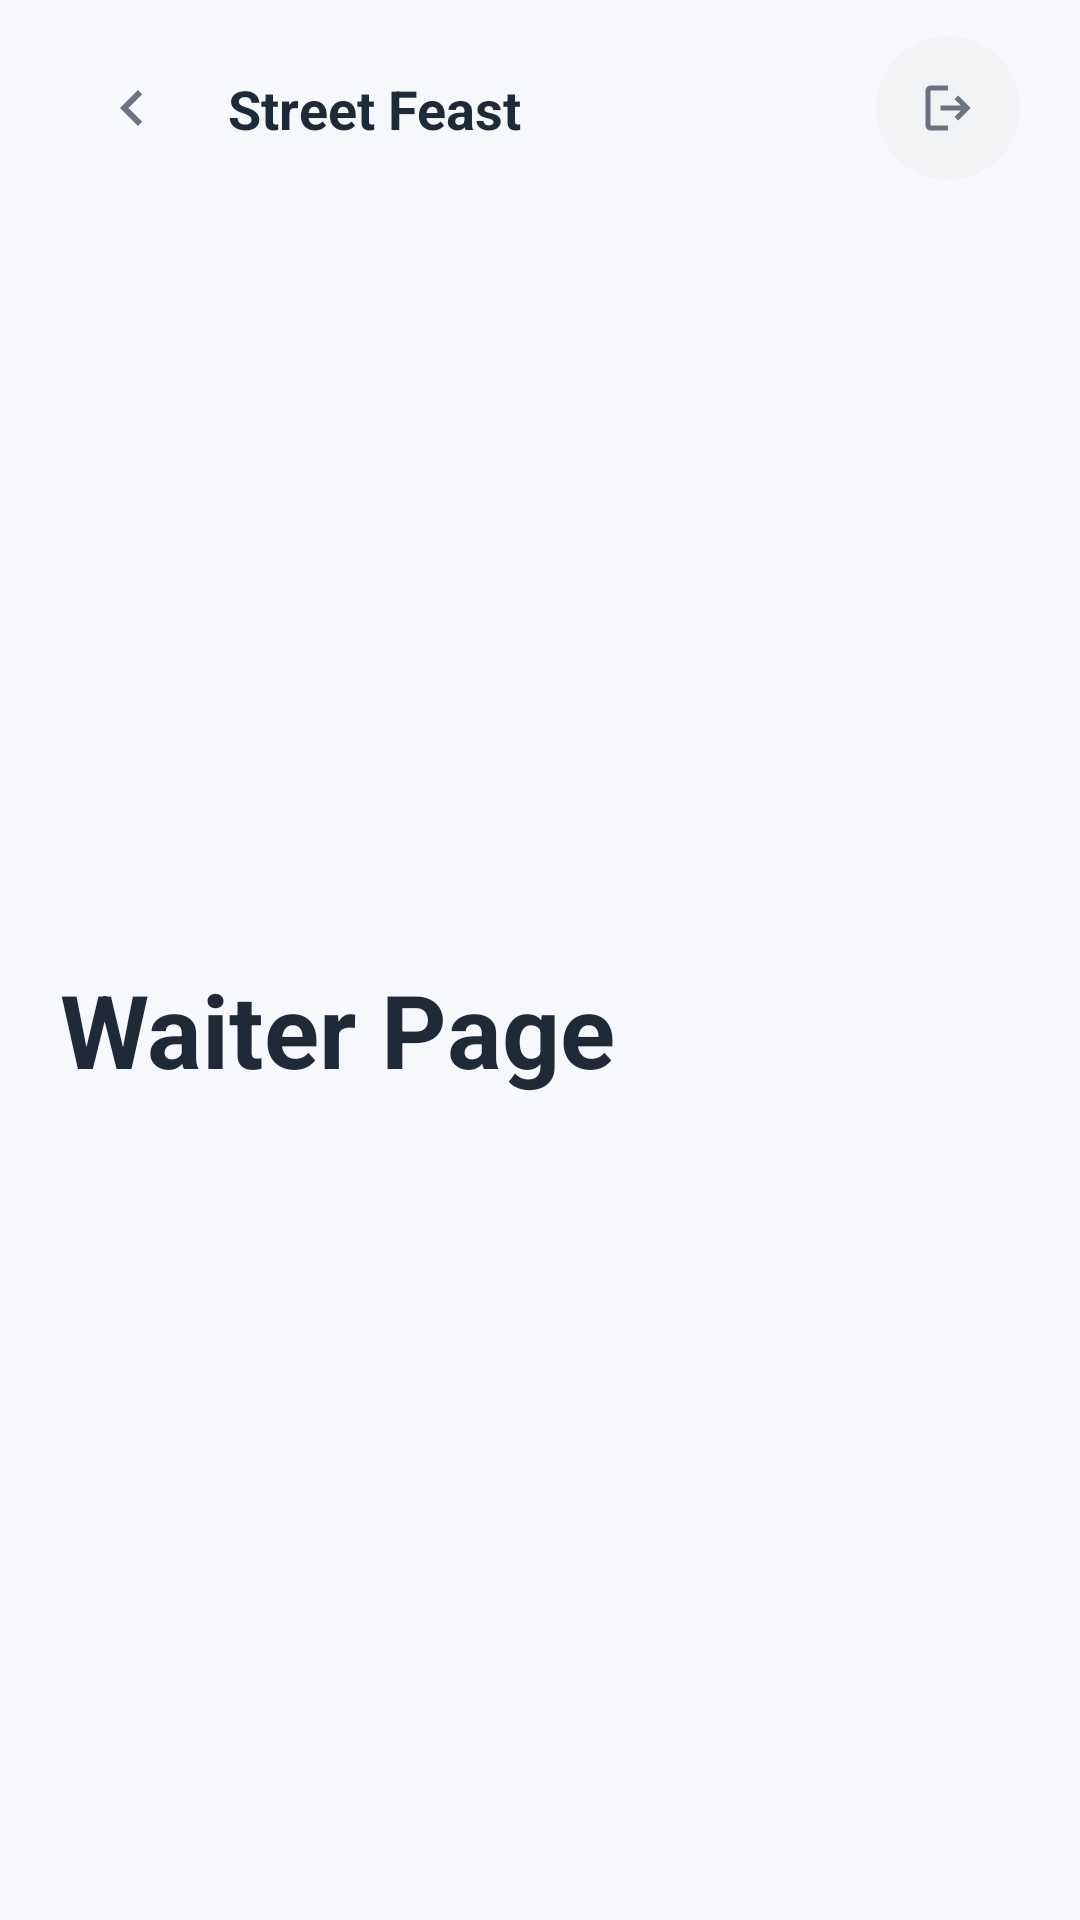

Icons on this 1080x1920 Android screen, each with its box as (x1, y1, x2, y2):
Navigate back: (120, 90, 142, 126)
